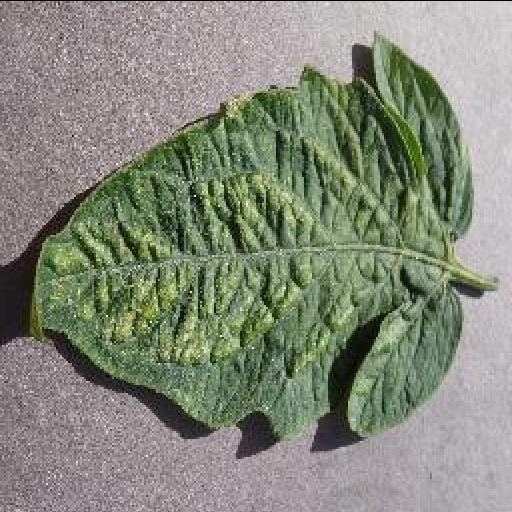disease_tomato: (30, 32, 474, 444)
